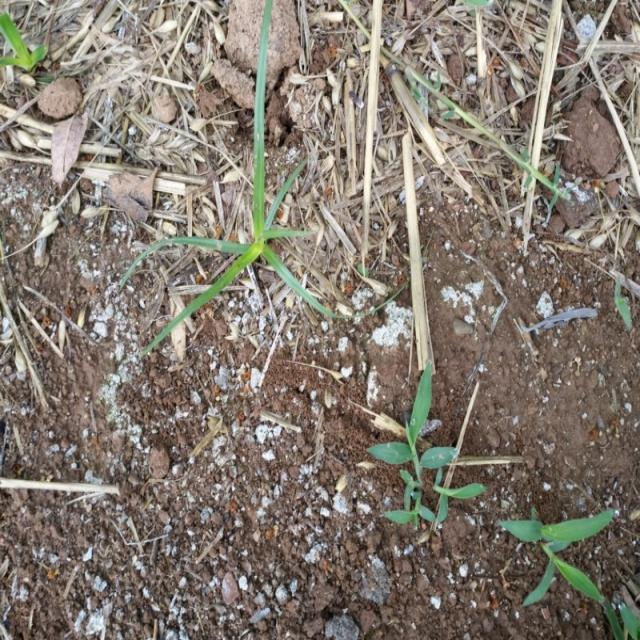sedge: (109, 45, 394, 354)
